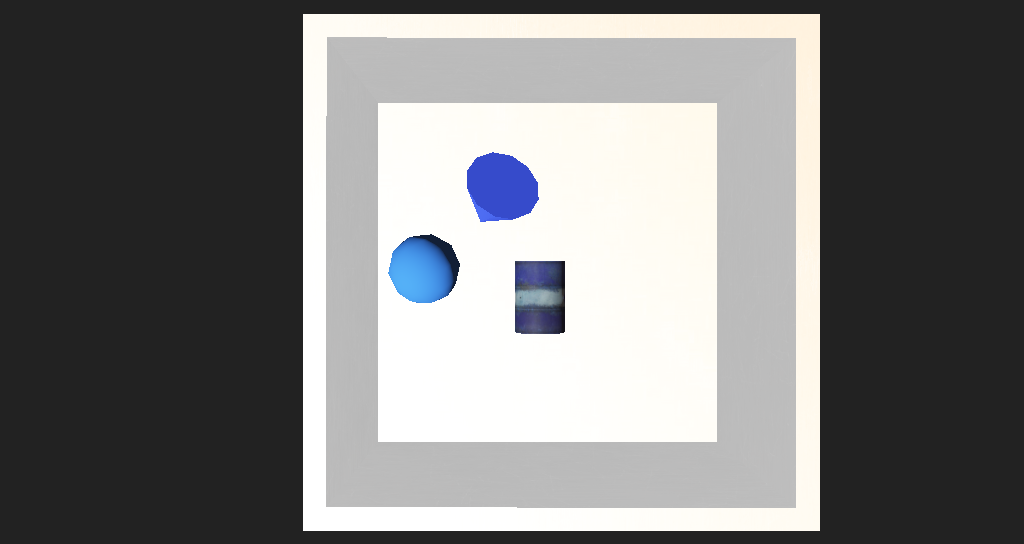cone: (475, 265, 522, 308)
cylinder: (401, 188, 502, 260)
sphere: (367, 246, 428, 289)
